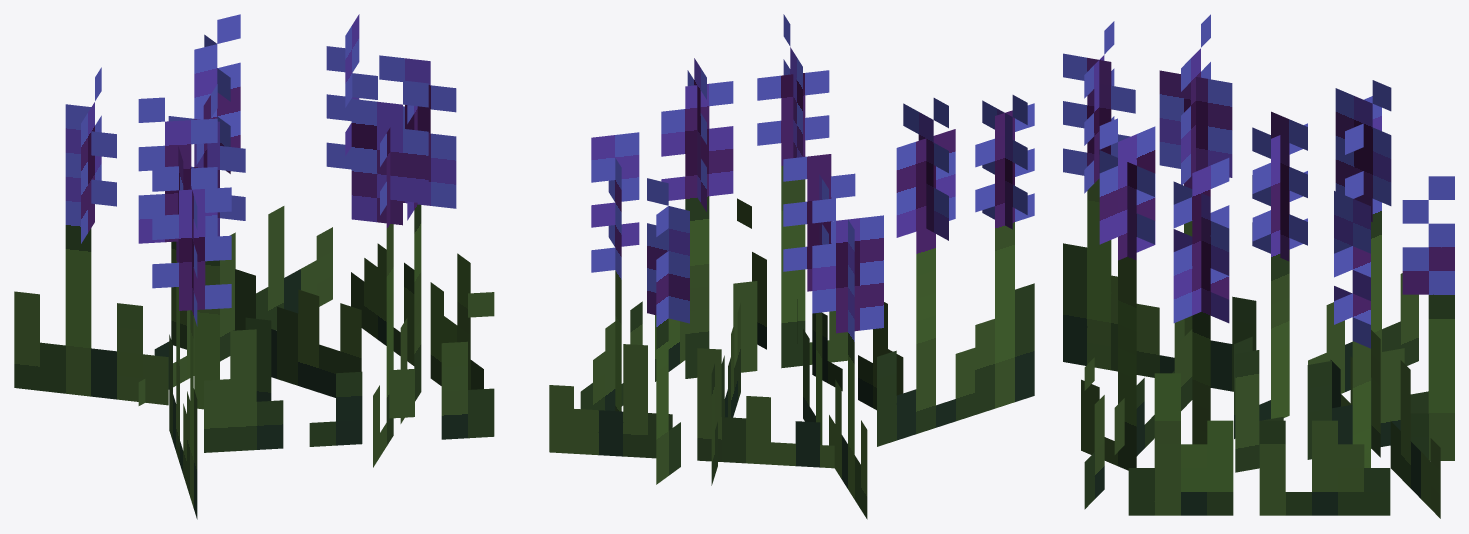
Rendered from flower-lupin-2.gltf.
3 renders of one model, left to right at view 1: azimuth 30°, elevation 25°; view 2: azimuth 150°, elevation 25°; view 3: azimuth 270°, elevation 25°, orthographic. The views are drawn at different scales.
Visible parts, largest first — view 1: cube (×17); view 2: cube (×17); view 3: cube (×16).
Part boxes in pixels (box(x1,y1,x2,y2)): cube (×17): box(14, 14, 494, 519); cube (×17): box(549, 14, 1034, 519); cube (×16): box(1063, 14, 1454, 518).
Size of the model in its own units: 0.9436 by 0.9375 by 0.9358.
1 material, 1 textured.
